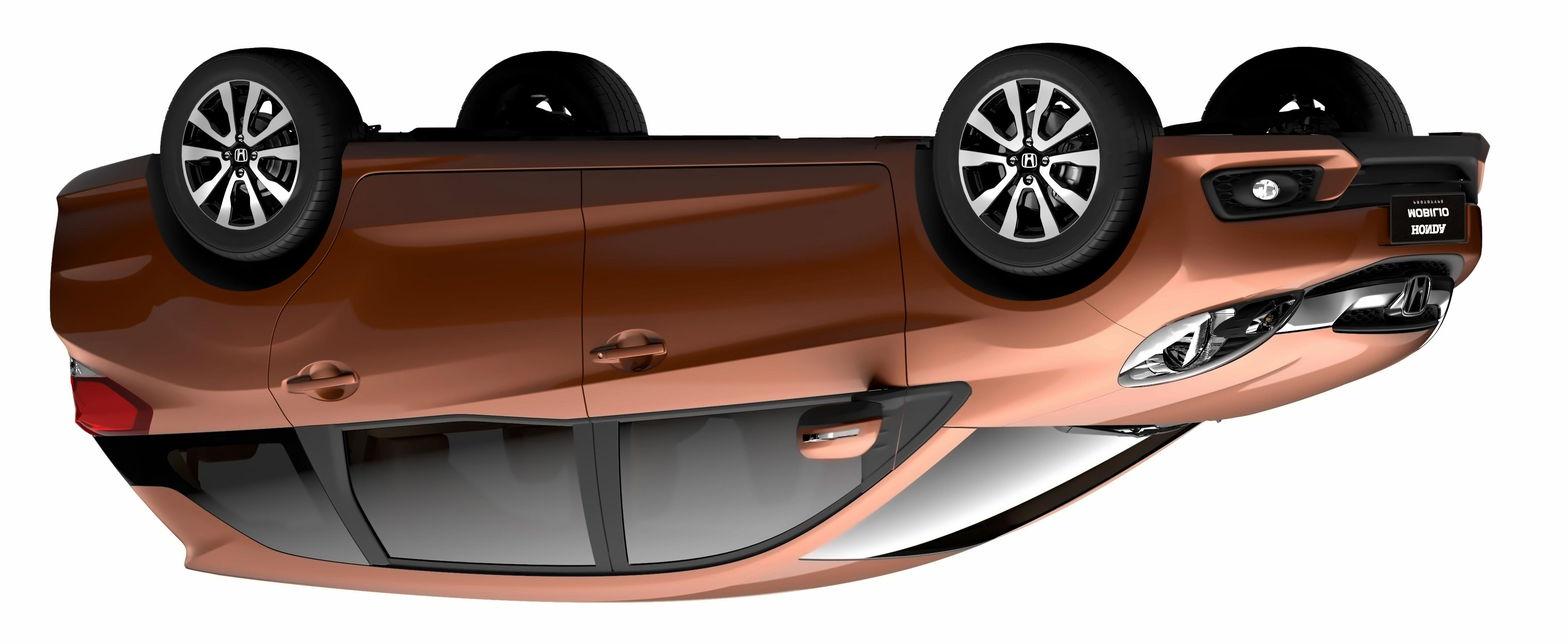Car hood: (941, 324, 1442, 425)
Fender - -F-L-: (845, 123, 1165, 443)
Fender - -R-L-: (45, 138, 346, 476)
Front bumper: (1072, 122, 1491, 343)
Headlight - -L-: (1113, 290, 1294, 390)
Passenger-s door - -F-L-: (564, 115, 948, 619)
Passenger-s door - -R-L-: (255, 108, 602, 628)
Rear bumper: (47, 133, 167, 312)
Rear light - -L-: (59, 352, 161, 450)
Side bumper - -L-: (337, 120, 942, 254)
Side mirror - -L-: (789, 390, 893, 471)
